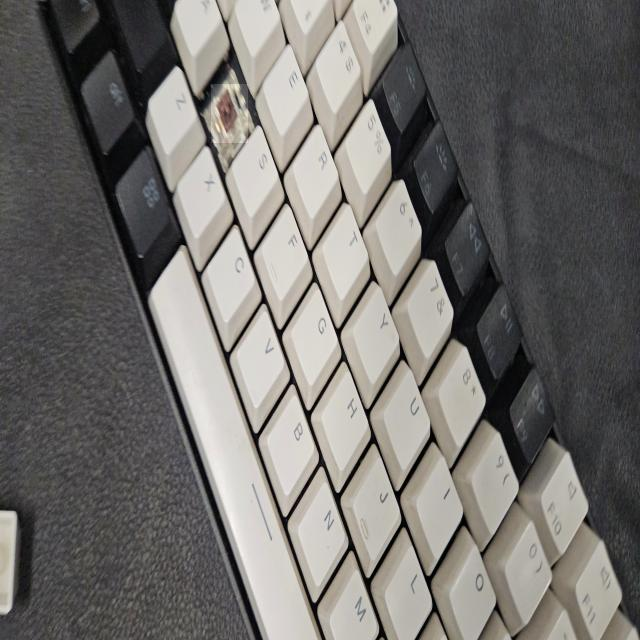C: (211, 84, 248, 143)
